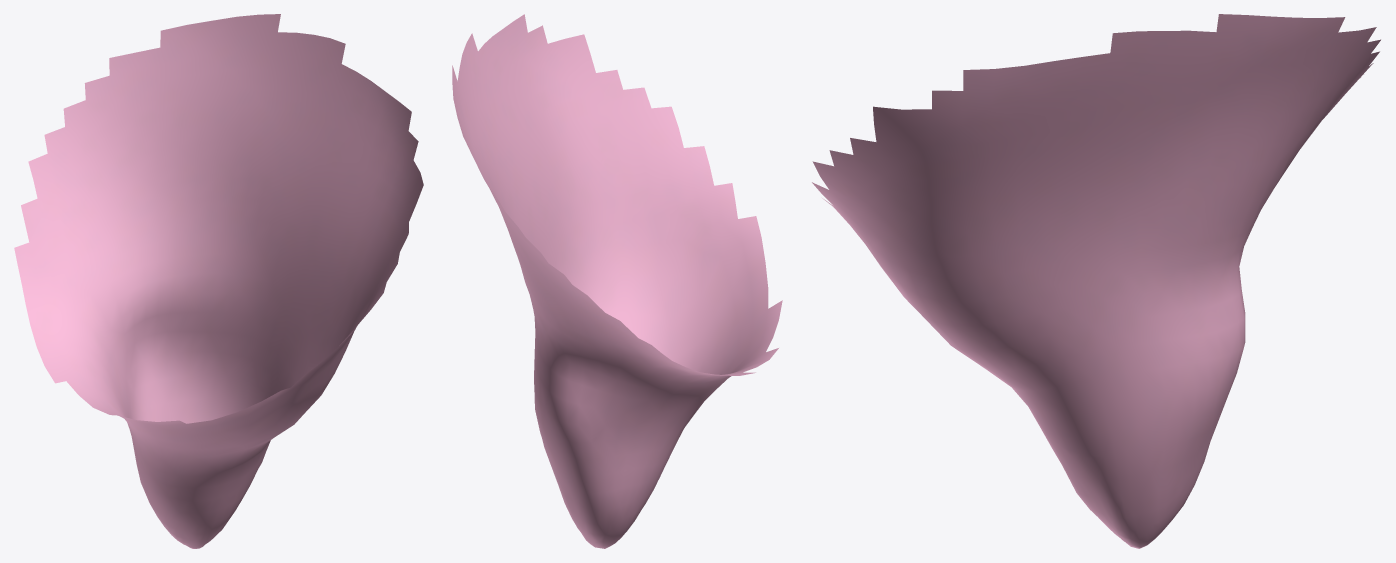
File: Pato PTD.obj
3 renders of one model, left to right at view 1: azimuth 30°, elevation 25°; view 2: azimuth 150°, elevation 25°; view 3: azimuth 270°, elevation 25°, orthographic. The views are drawn at different scales.
Visible parts, largest first — view 1: Pata_trasera_Der; view 2: Pata_trasera_Der; view 3: Pata_trasera_Der.
Part boxes in pixels (x1,y1,x2,y2): Pata_trasera_Der: (14,14,423,548); Pata_trasera_Der: (452,14,782,548); Pata_trasera_Der: (812,14,1380,548).
Bounding box in the file's own units: 0.0355 × 0.0554 × 0.0473.
